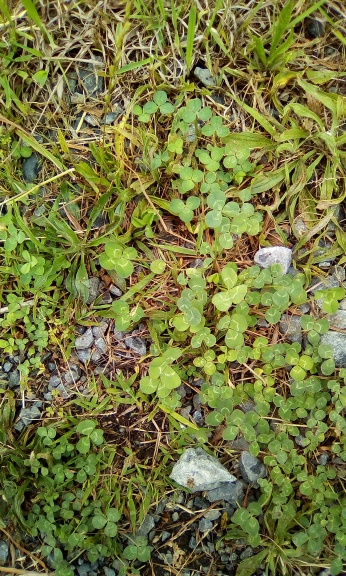4leaf: (97, 241, 138, 280)
